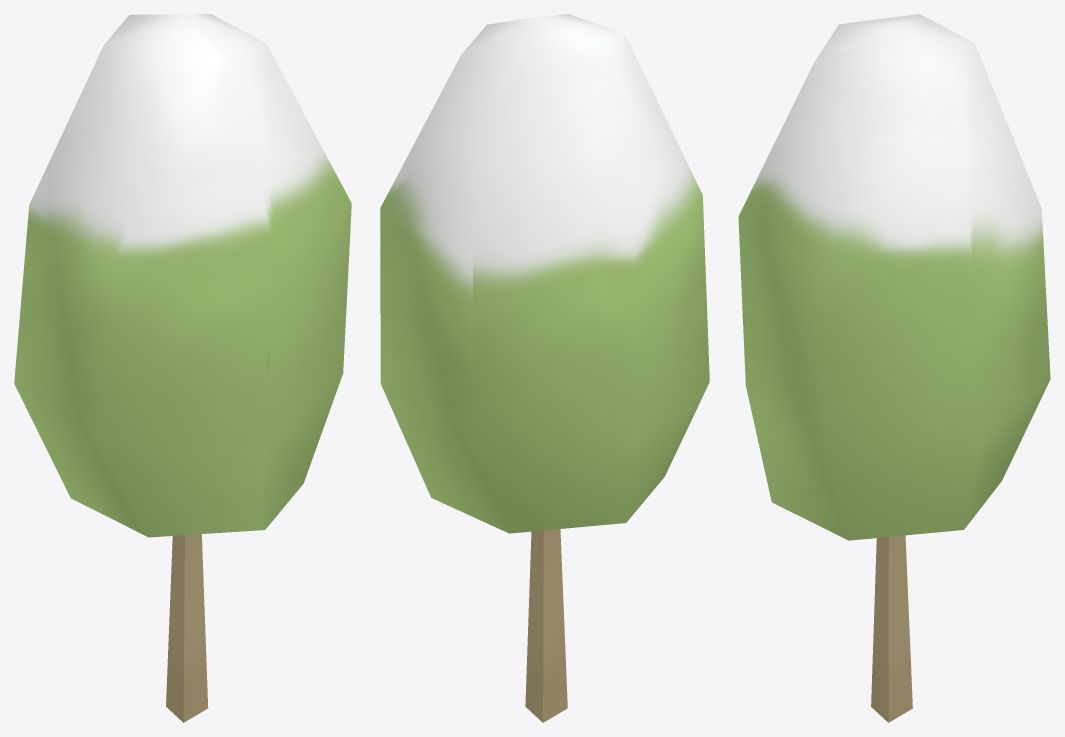
3 views of the same model, side by side, from view 1: azimuth 30°, elevation 25°; view 2: azimuth 150°, elevation 25°; view 3: azimuth 270°, elevation 25° (orthographic).
Parts seen in each view (by area): view 1: wLODTree.002; view 2: wLODTree.002; view 3: wLODTree.002.
Boxes of the visible parts, x1,y1,x2,y2 form: wLODTree.002: (14,14,351,722); wLODTree.002: (380,14,709,722); wLODTree.002: (738,14,1050,722).
Bounding box in the file's own units: 7.69 × 19.37 × 7.98.
1 material, 1 textured.
